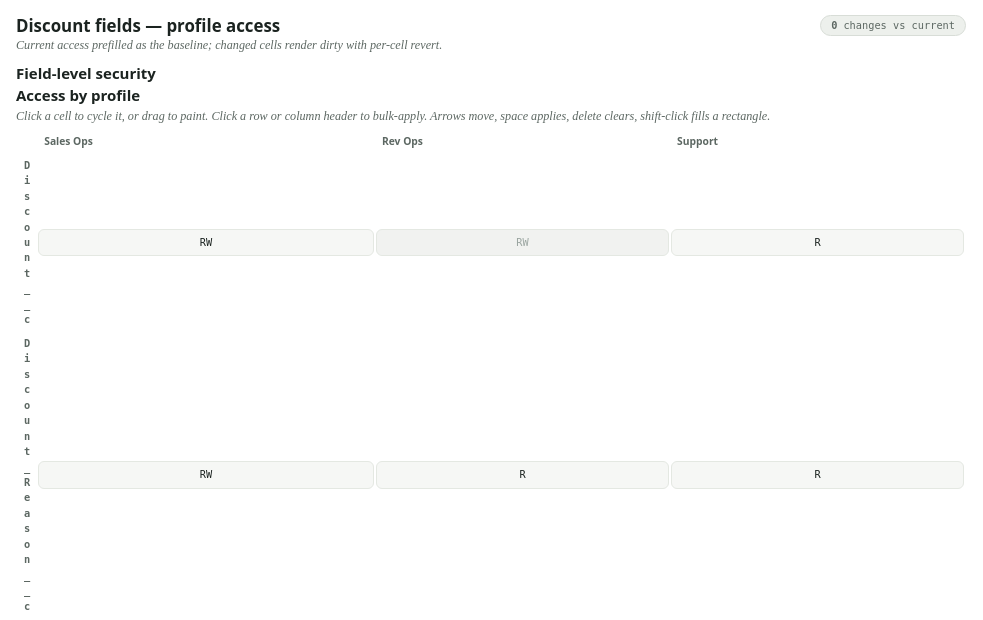
Test: cycle mode › renders the option LABEL in the cell, and advances on click
Step 1. Press the mouse on the 1st button "R" → (818, 243), box [671, 229, 964, 256]
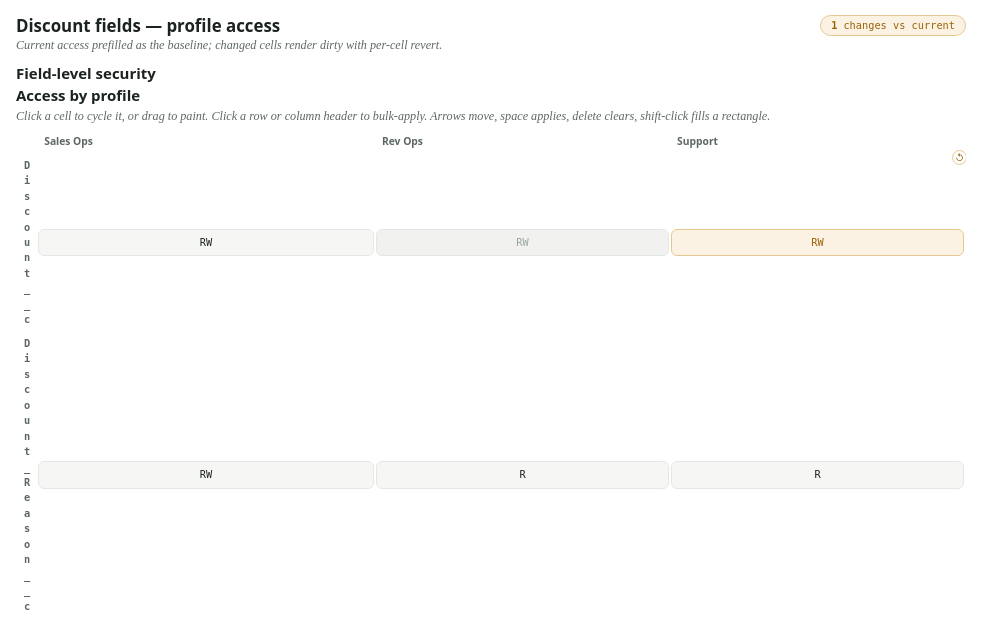
expect the 3rd button "RW" is shown: met
# …and wraps.
Step 2. Press the mouse on the 3rd button "RW" → (818, 243), box [671, 229, 964, 256]
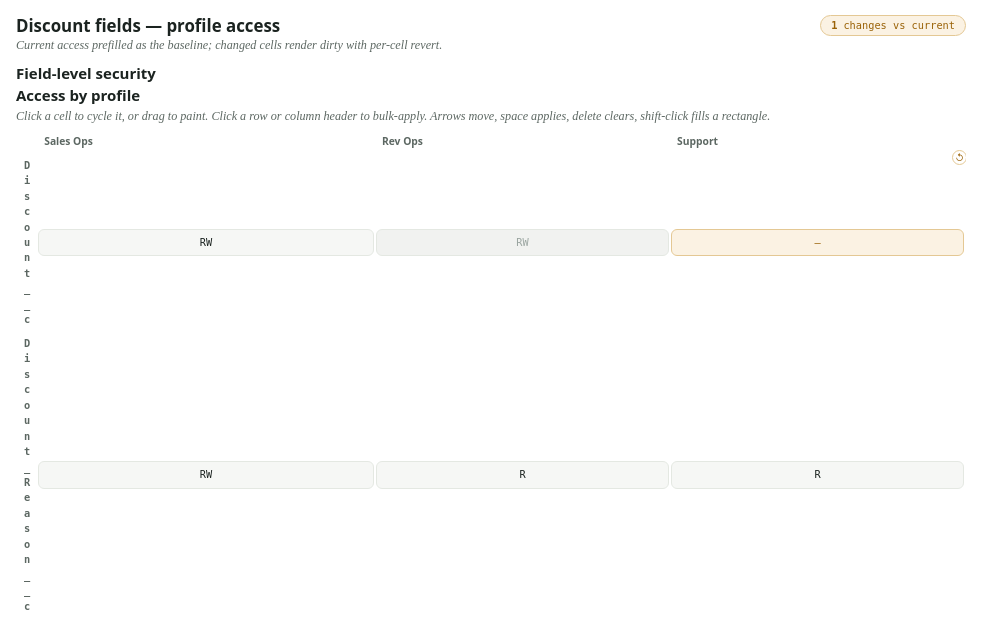
expect the 1st button "–" is shown: met, box [671, 229, 964, 256]
